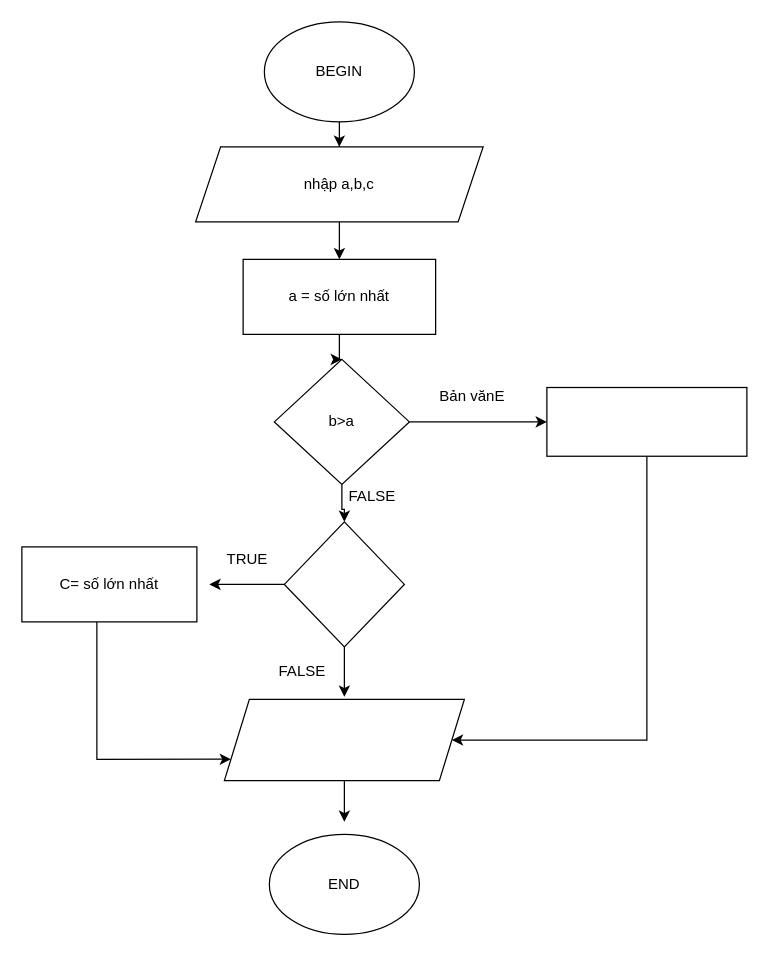
This 769x956 diagram has some shape labels left out. Here are the shapes that lost their labels. From the top down, the box of each, then its label:
(546, 386, 747, 456): b= số lớn nhất
(283, 521, 404, 647): C>b
(223, 698, 464, 781): out số lớn nhất
